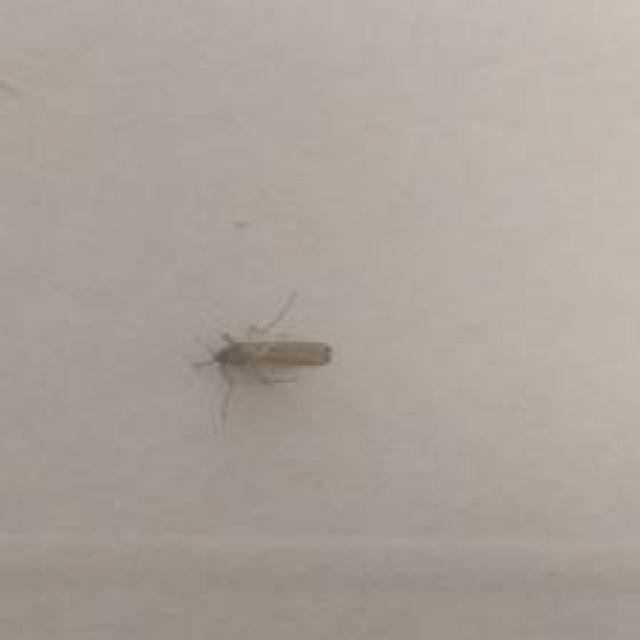Culex: (192, 288, 334, 426)
